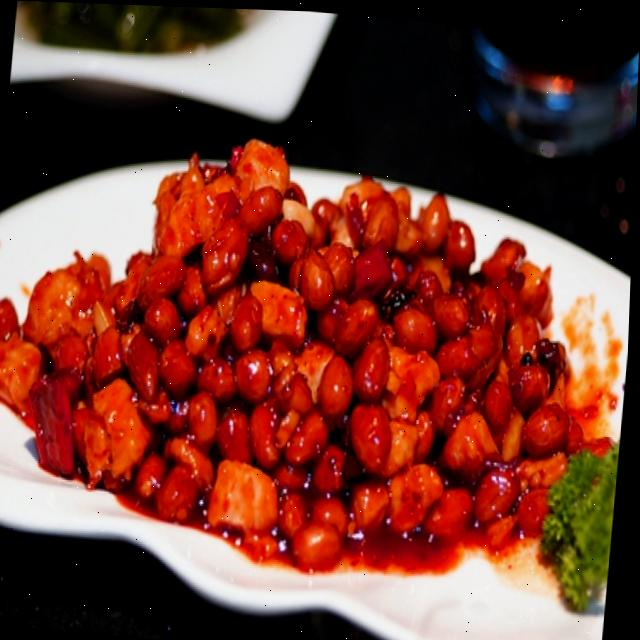鸡肉料理 含炸鸡: (0, 113, 632, 614)
